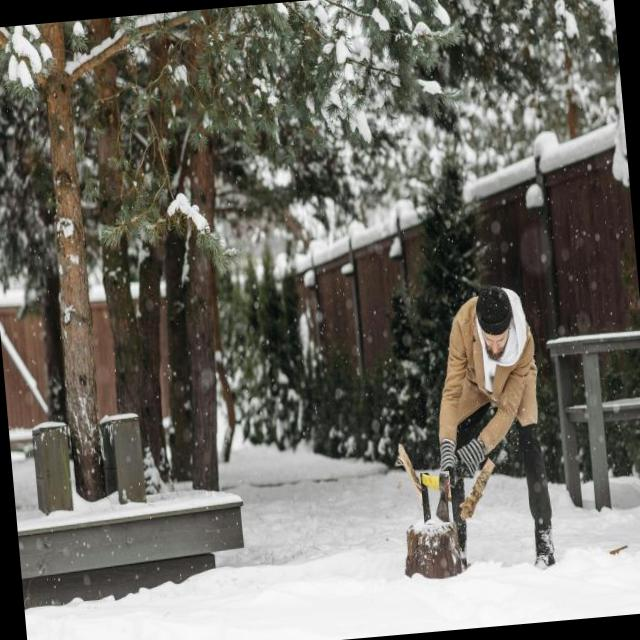Knife: (420, 473, 450, 522)
